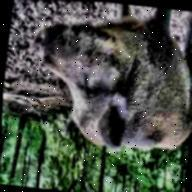boar: (7, 0, 192, 167)
